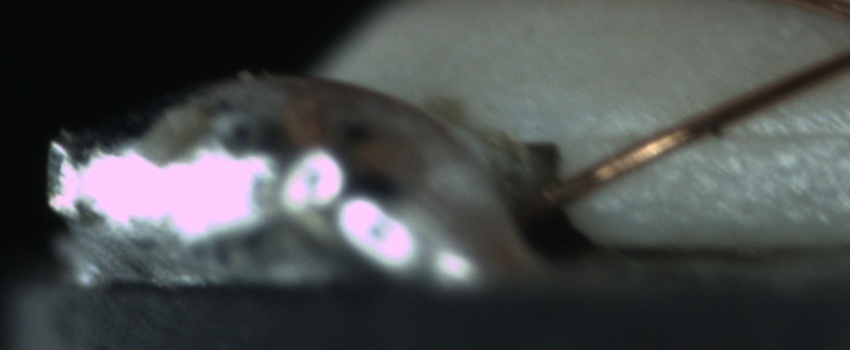DL: (611, 104, 848, 171)
